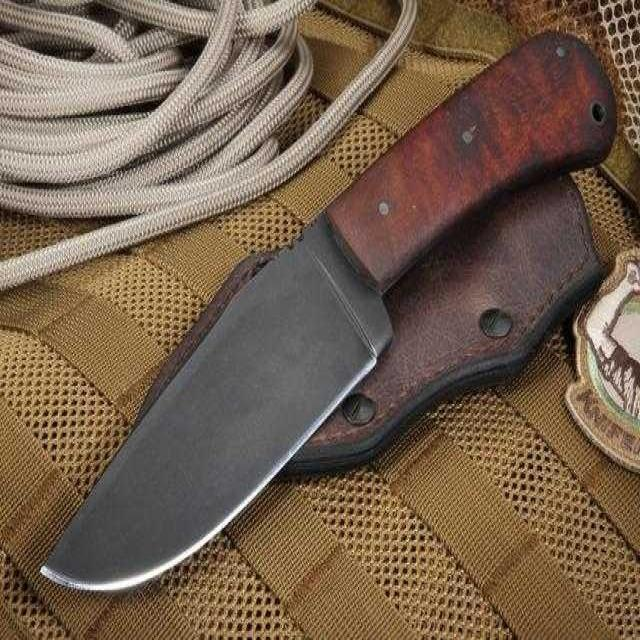knife: (38, 22, 619, 603)
